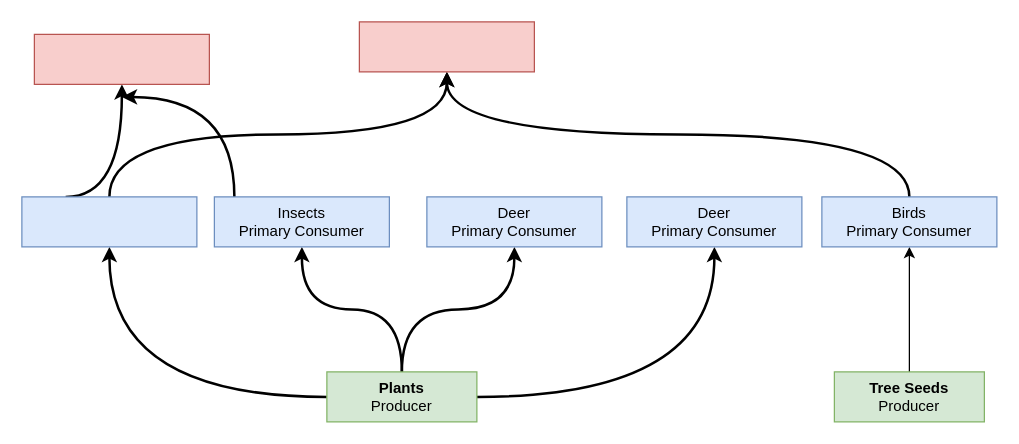
The diagram is 1019 pixels wide and 444 high, and some of its shapes have lost their labels. Each missing label, with the centre of its shape:
Foxes Secondary Consumer: the point at 446,46
Rodents Primary Consumer: the point at 109,221
Snakes Secondary Consumer: the point at 121,58
